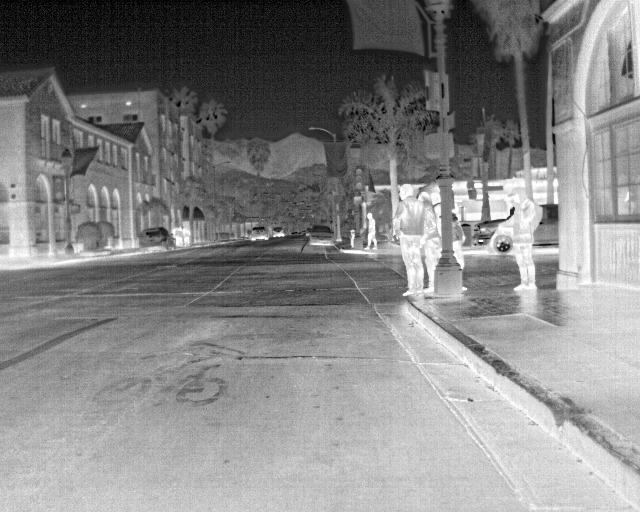bicycle: (137, 226, 177, 255), (533, 204, 559, 248), (473, 219, 507, 249), (489, 218, 512, 254), (305, 223, 336, 249), (249, 224, 270, 243), (269, 226, 286, 242)
empty: (394, 181, 426, 298), (507, 184, 540, 293), (416, 189, 436, 299), (449, 208, 469, 270), (362, 211, 379, 251)
